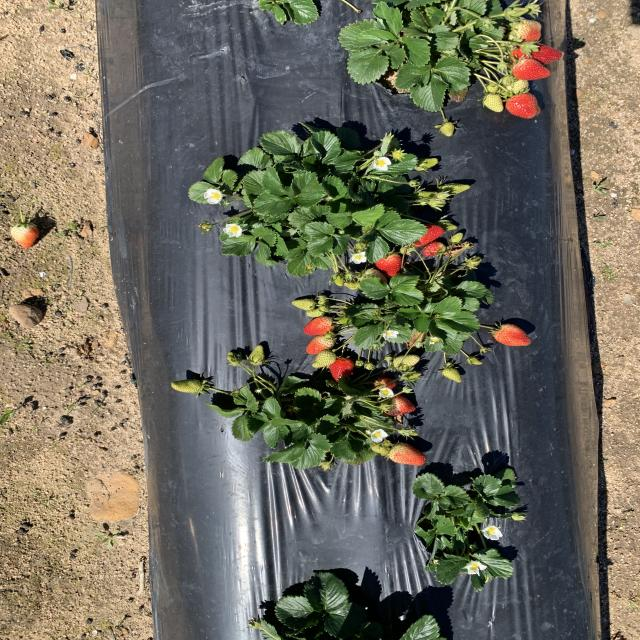unripe: (512, 42, 564, 66), (399, 221, 446, 246), (504, 91, 542, 119), (511, 59, 552, 83), (491, 323, 530, 346), (386, 444, 426, 466), (328, 355, 355, 383), (303, 316, 334, 337), (376, 254, 402, 276), (306, 335, 336, 354), (421, 240, 446, 257), (375, 376, 395, 388)
